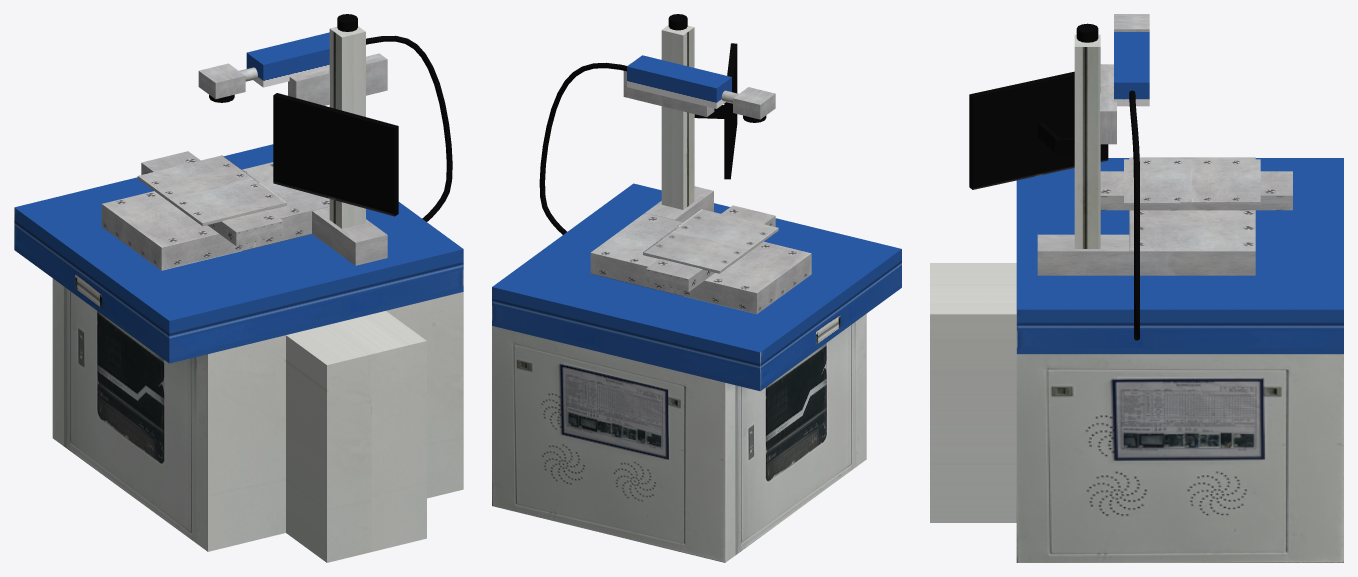
File: 流水线_b1_jiqi2.fbx
The picture shows the model from 3 angles, left to right: view 1: azimuth 30°, elevation 25°; view 2: azimuth 150°, elevation 25°; view 3: azimuth 270°, elevation 25°; orthographic projection. The views are drawn at different scales.
Parts seen in each view (by area): view 1: Box010; view 2: Box010; view 3: Box010.
Boxes of the visible parts, left/top/right/bottom form: Box010: left=14, top=14, right=463, bottom=562; Box010: left=492, top=14, right=901, bottom=562; Box010: left=930, top=14, right=1343, bottom=562.
Bounding box in the file's own units: 26.49 × 34.75 × 26.49.
